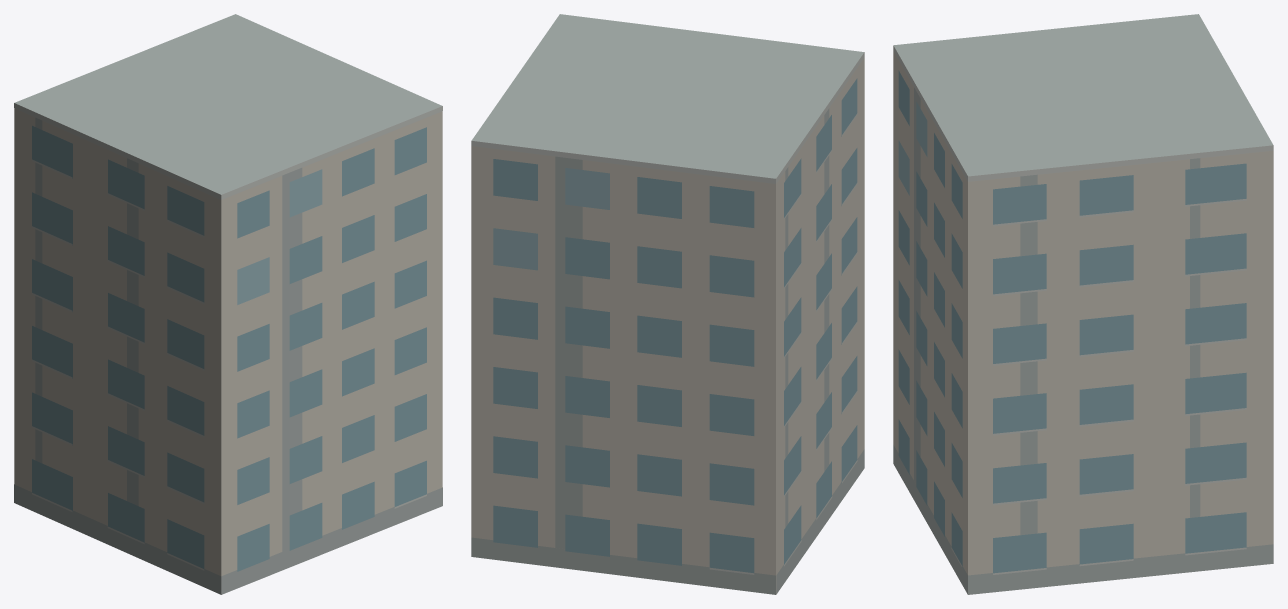
The model's file is survey-upis-32631207.glb.
3 renders of one model, left to right at view 1: azimuth 30°, elevation 25°; view 2: azimuth 150°, elevation 25°; view 3: azimuth 270°, elevation 25°, orthographic. The views are drawn at different scales.
Visible parts, largest first — view 1: survey-upis-32631207.tmp; view 2: survey-upis-32631207.tmp; view 3: survey-upis-32631207.tmp.
Boxes of the visible parts, bbox=[...] form: survey-upis-32631207.tmp: bbox=[14, 14, 442, 594]; survey-upis-32631207.tmp: bbox=[471, 14, 864, 594]; survey-upis-32631207.tmp: bbox=[893, 14, 1273, 594].
Bounding box in the file's own units: 15.87 × 19.05 × 15.7.
